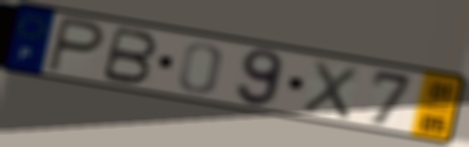0: (176, 41, 226, 96)
7: (368, 67, 414, 128)
9: (233, 47, 286, 109)
B: (98, 24, 161, 86)
P: (44, 14, 108, 76)
X: (298, 57, 362, 122)
